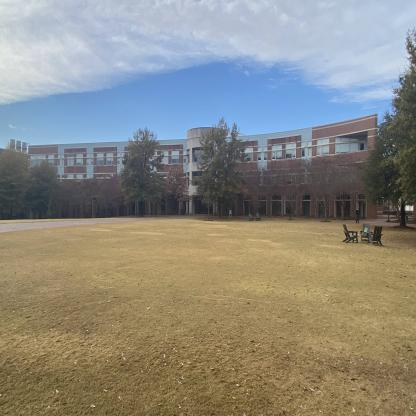EB-1: (27, 124, 393, 231)
